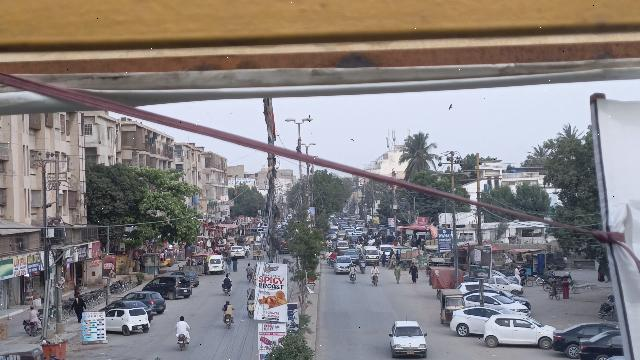Bike: (173, 333, 189, 355), (28, 317, 41, 337), (222, 314, 235, 331), (347, 271, 358, 288), (220, 284, 232, 299), (371, 272, 381, 289)
Car: (480, 310, 556, 352), (551, 319, 618, 357), (384, 317, 430, 359), (449, 305, 503, 339), (577, 330, 625, 360), (104, 306, 151, 335), (141, 275, 193, 300), (123, 290, 167, 314)
Person: (69, 293, 87, 323), (174, 314, 191, 336), (408, 261, 420, 286), (391, 261, 403, 284), (221, 297, 235, 315), (28, 304, 40, 324), (221, 271, 232, 285), (347, 263, 358, 275), (371, 263, 381, 275)
Rickshaw: (436, 287, 466, 325)
Van: (208, 255, 224, 275)
